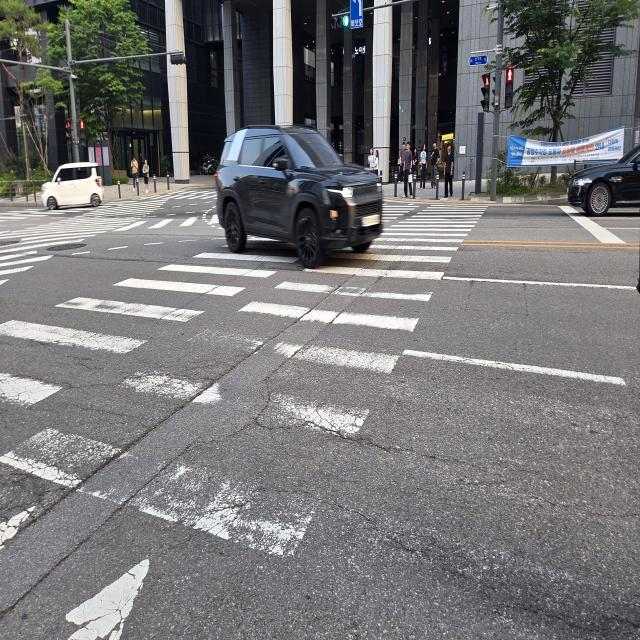car: (211, 92, 389, 289), (34, 143, 107, 217)
